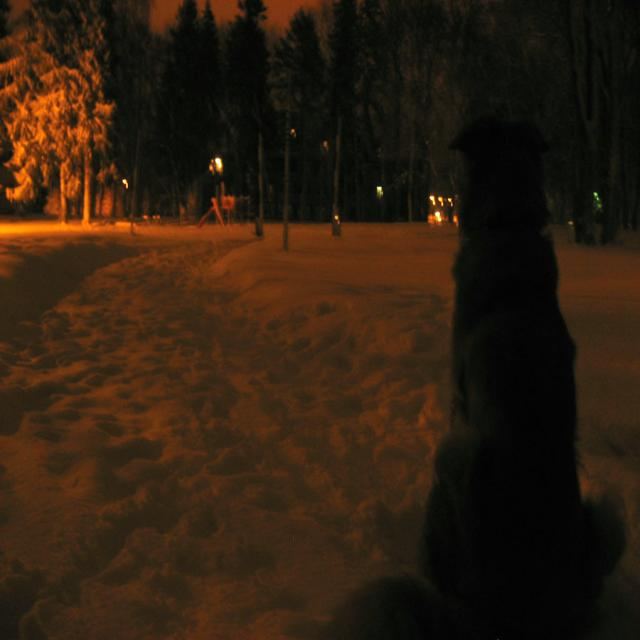Dog: (402, 116, 640, 630)
